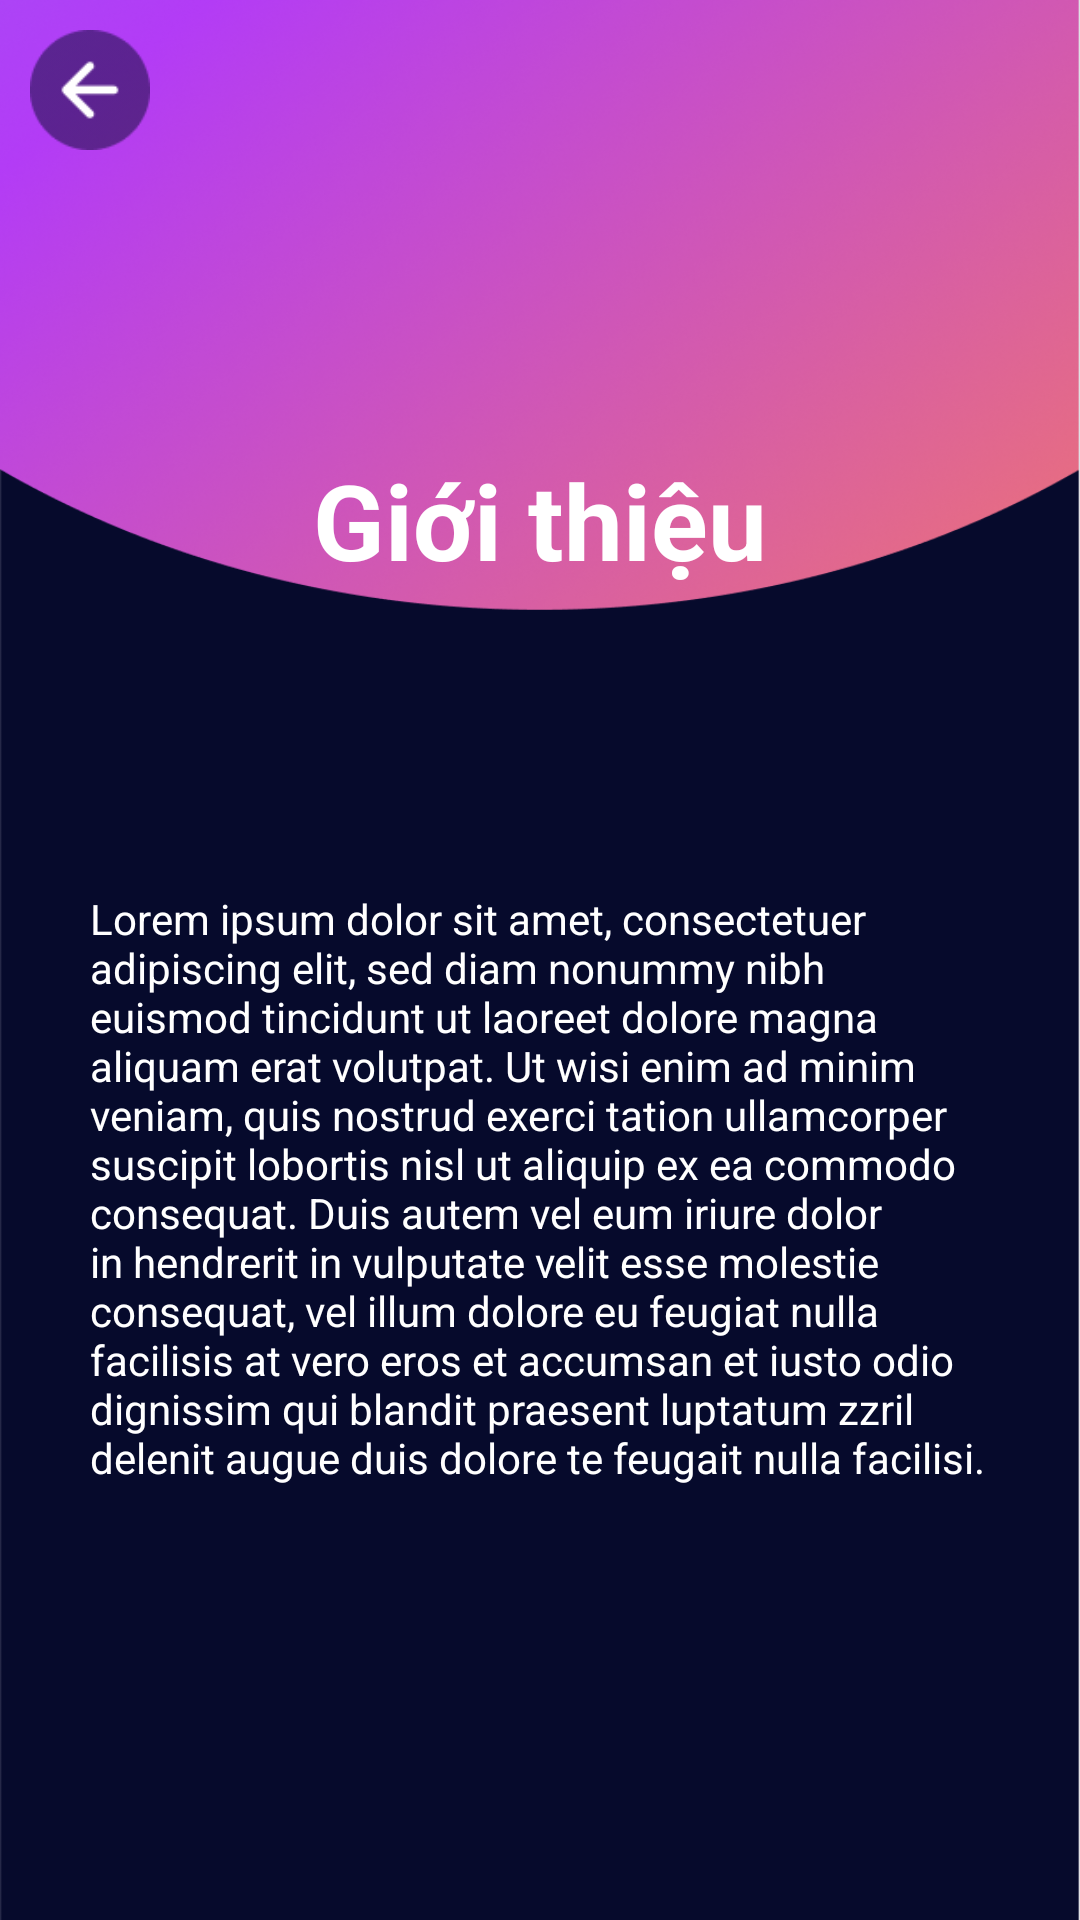

Named icons in this screenshot (1080 × 1920) and their centers, (x=x, y=y):
back: (x=90, y=90)
